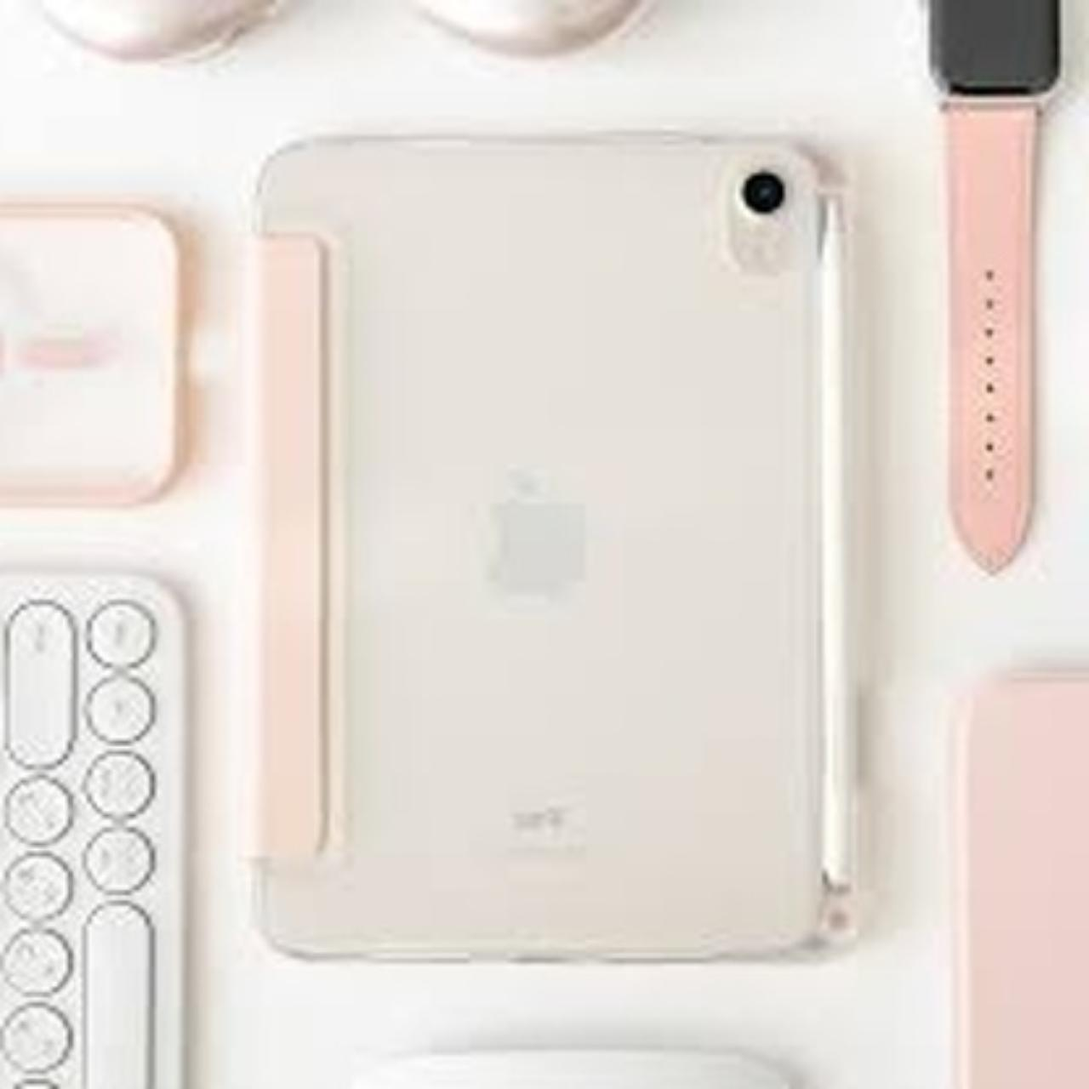Tablet_PC: (254, 115, 869, 979)
